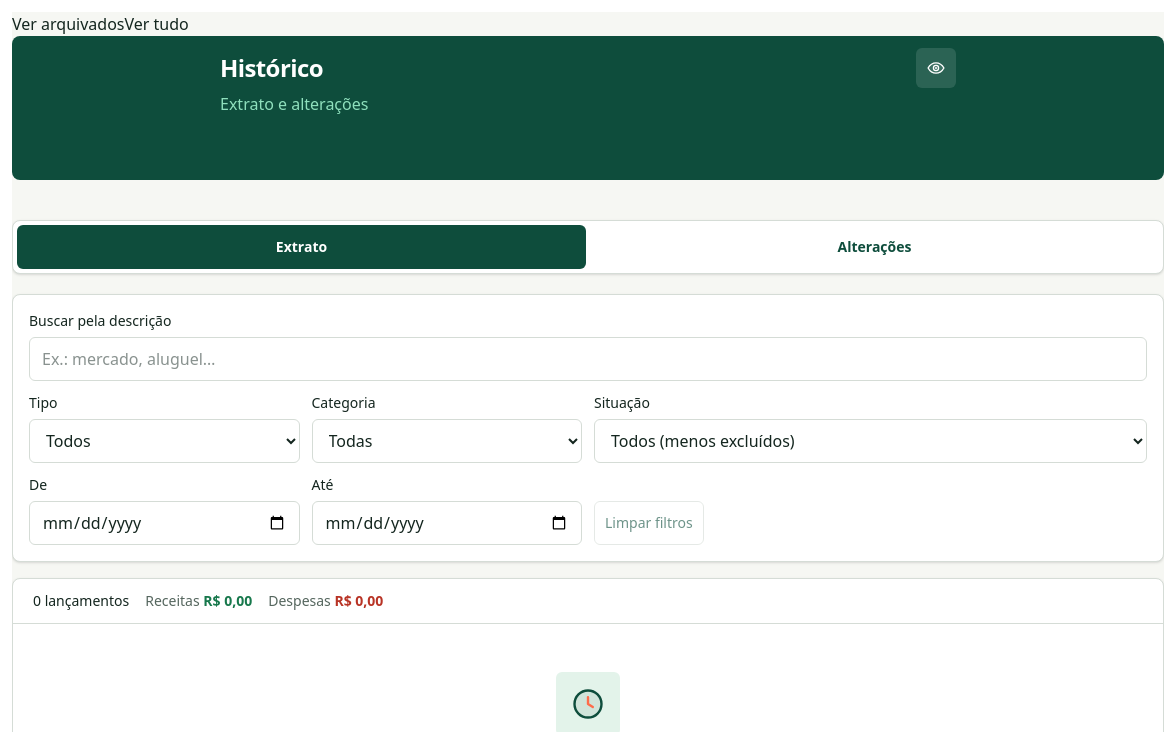
Test: Histórico: extrato › mudar ?situacao na URL com o extrato aberto (link, voltar, avançar) atualiza o filtro
Expected: the dropdown labelled "Situação" shows "Todos (menos excluídos)", [594, 419, 1147, 463]
Click the link "Ver arquivados": {"x": 68, "y": 24} [12, 13, 124, 35]
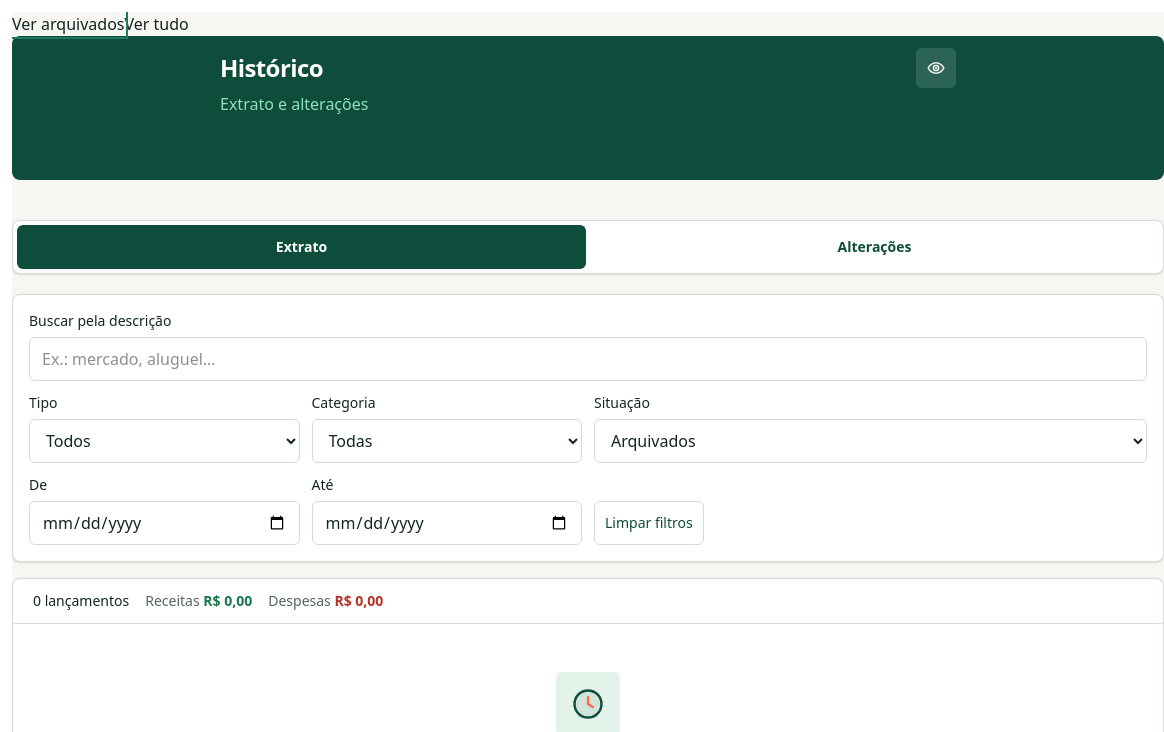
Now the dropdown labelled "Situação" shows "Arquivados", box [594, 419, 1147, 463]
Click the link "Ver tudo": {"x": 157, "y": 24} [124, 13, 189, 35]
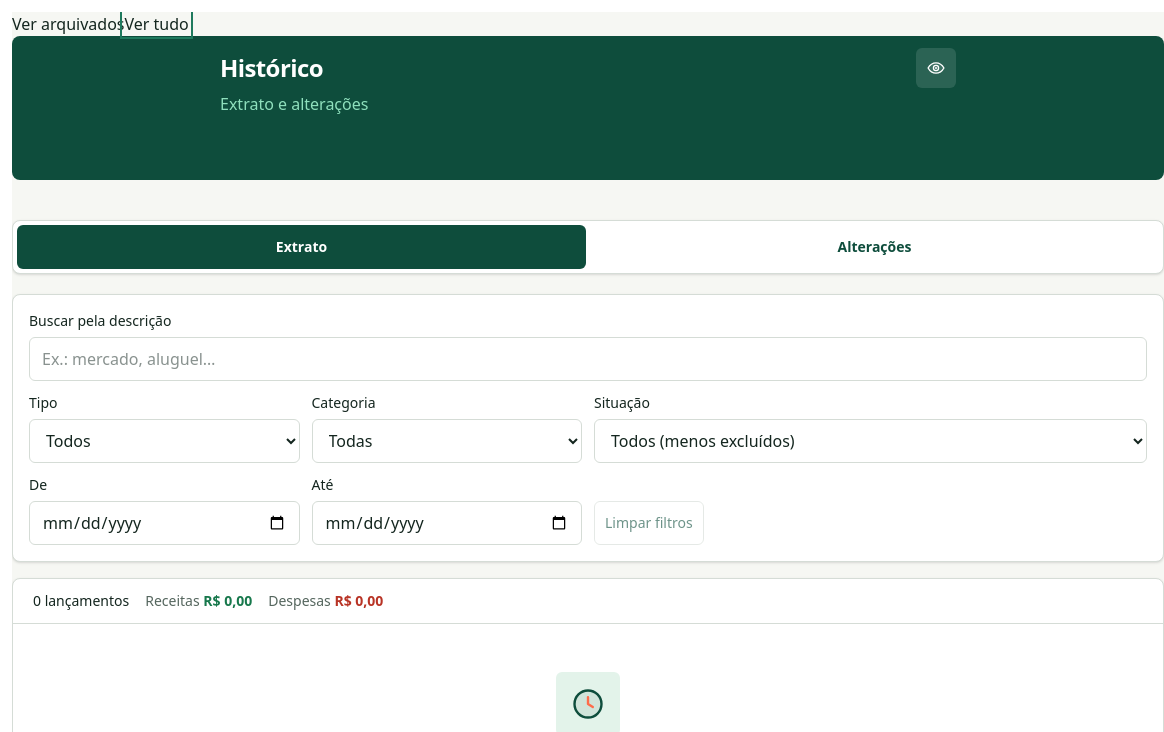
Now the dropdown labelled "Situação" shows "Todos (menos excluídos)", box [594, 419, 1147, 463]
